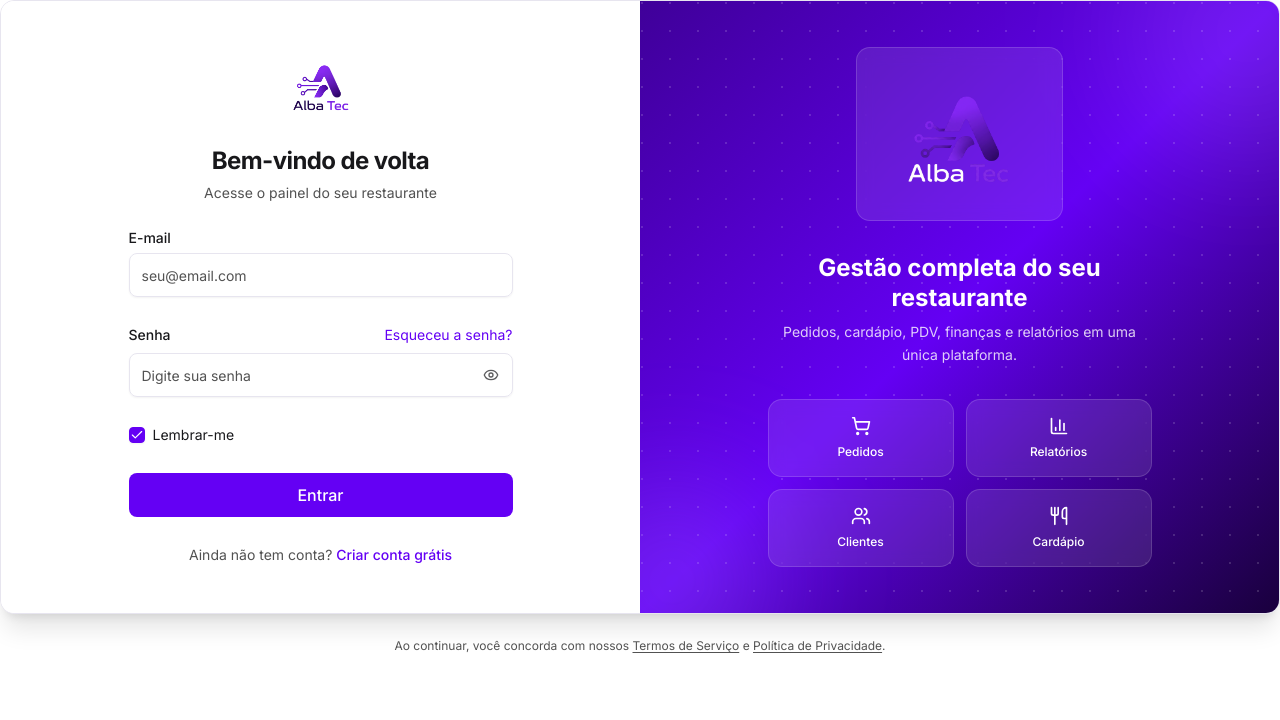
it: LoginForm3 — mostrar/ocultar senha › alterna o campo entre password e text ao clicar no ícone
Click the button named "mostrar senha" at (490, 375), box [468, 353, 512, 397]
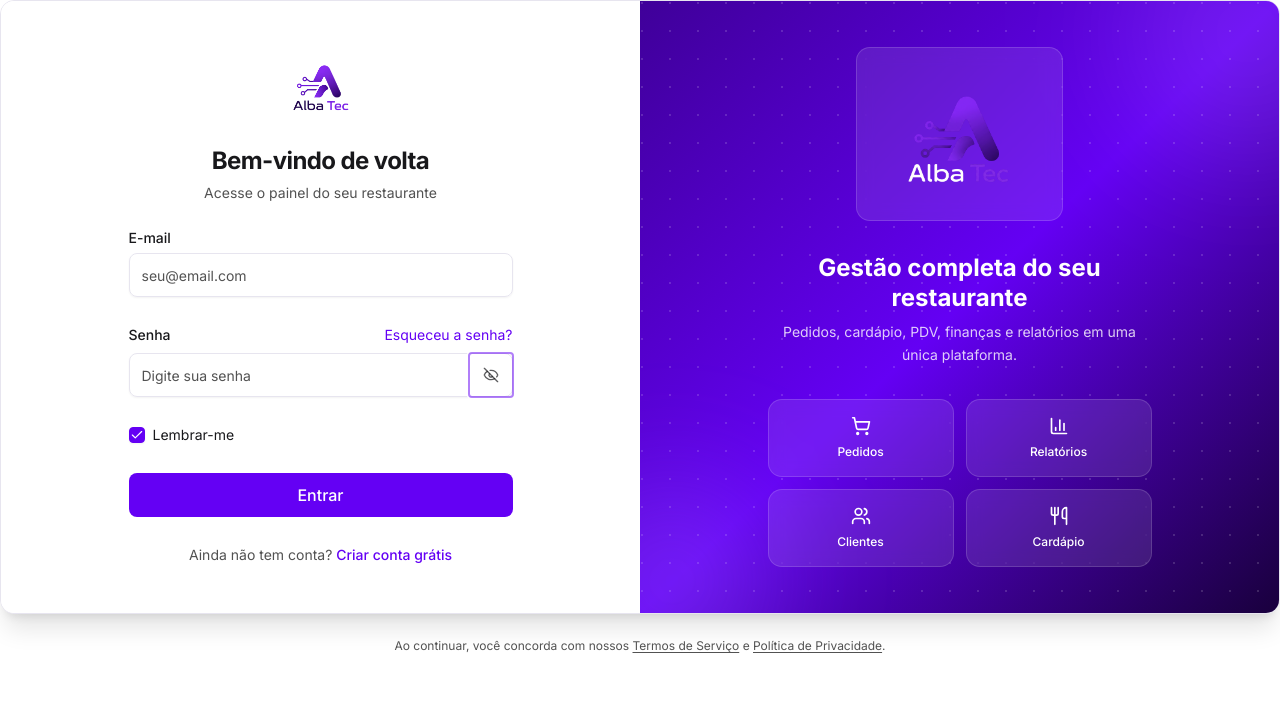
Expected: the button named "ocultar senha" is shown, [468, 353, 512, 397]
